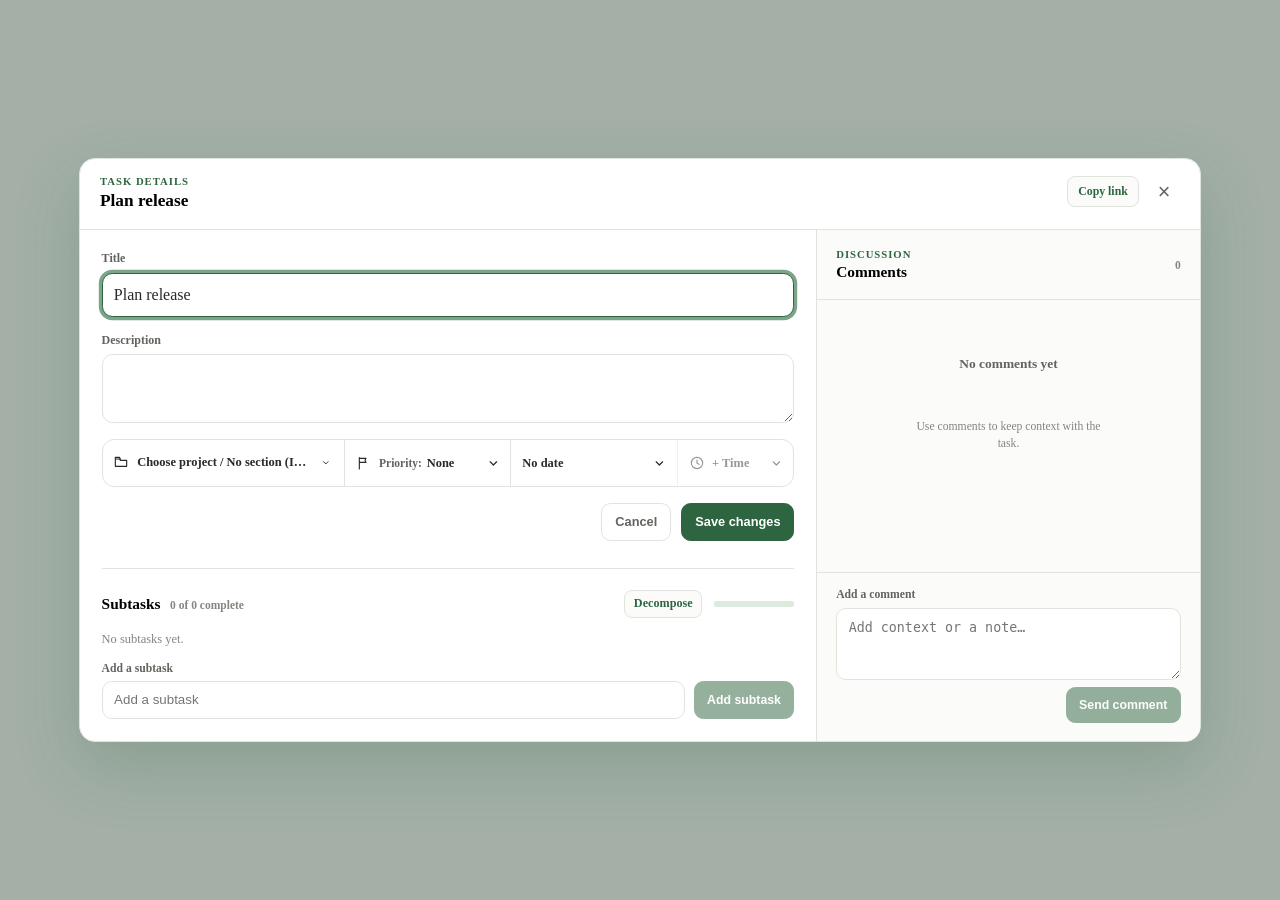
it: TaskEditorModal relationships › creates a subtask without saving or closing the parent task editor
Type "Draft notes" into the field labelled "Add a subtask" at (393, 700), box [102,681,685,719]
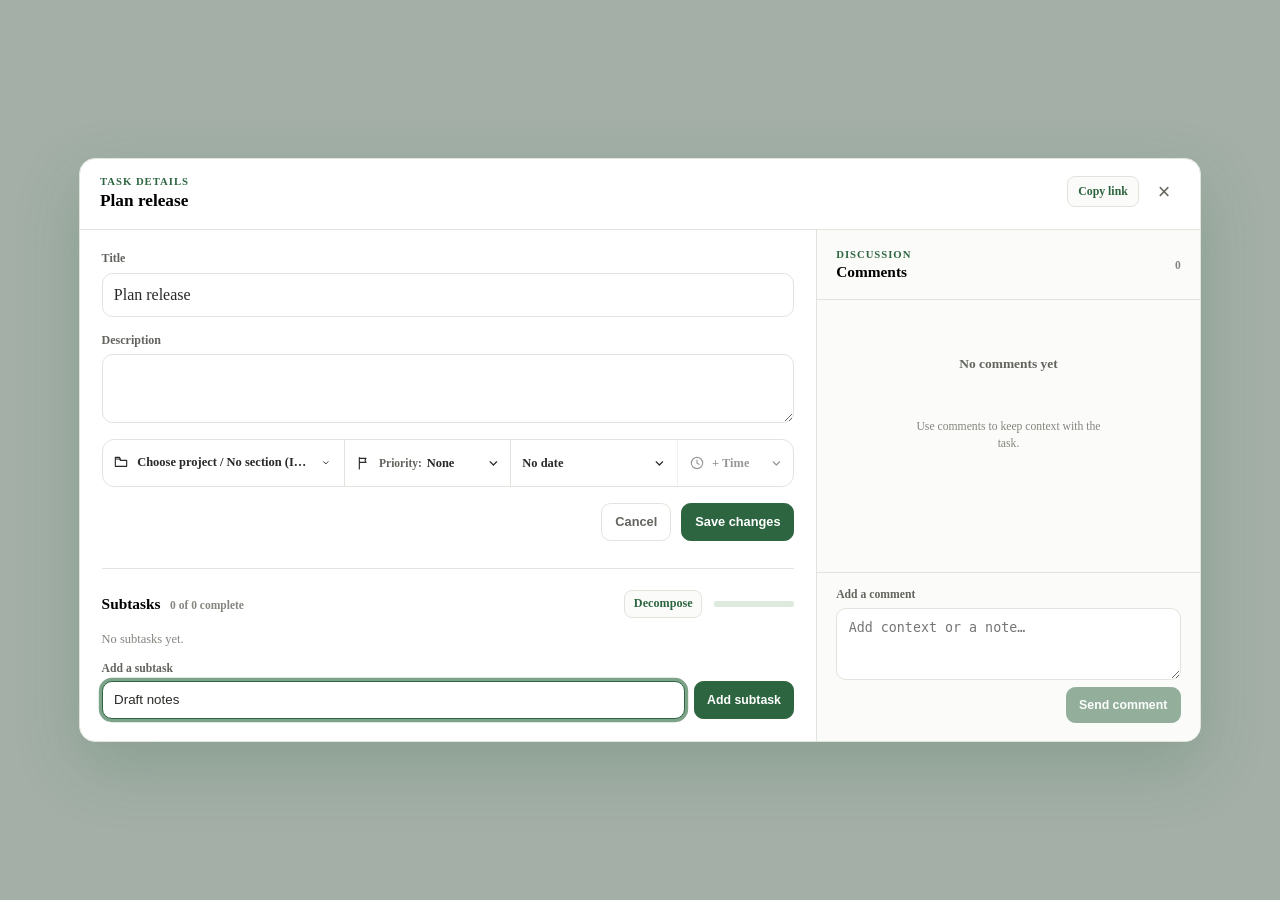
Click the button "Add subtask" at (744, 700), box [694,681,794,719]
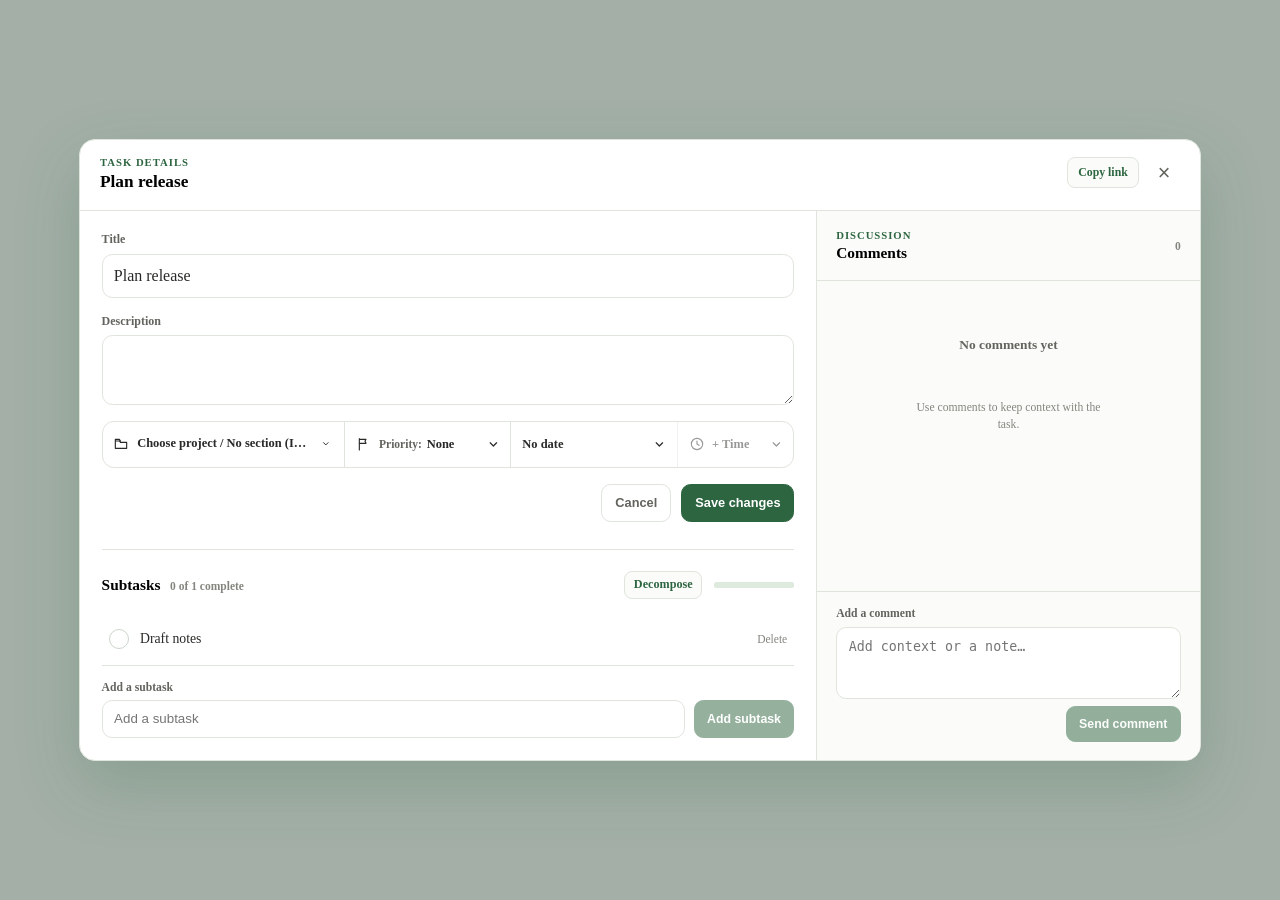
Check: the text "Draft notes" is shown, box [140,631,202,646]
Check: the field labelled "Add a subtask" is empty, box [102,700,685,738]
